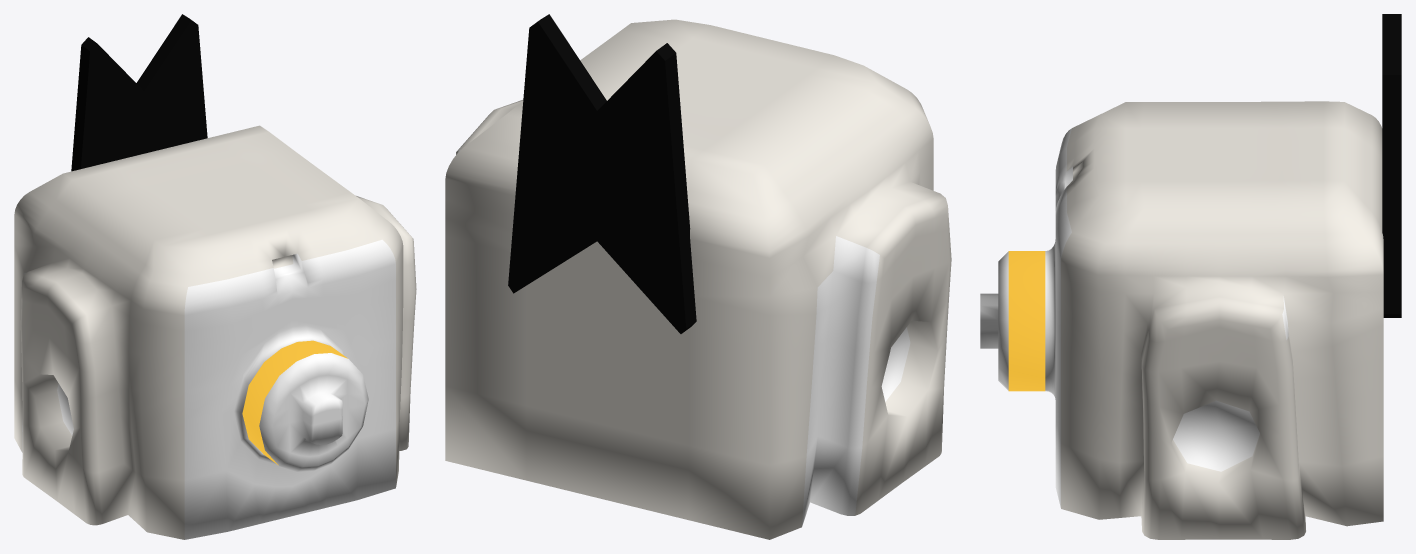
File: dextermecha1.glb
3 views of the same model, side by side, from view 1: azimuth 30°, elevation 25°; view 2: azimuth 150°, elevation 25°; view 3: azimuth 270°, elevation 25° (orthographic). The views are drawn at different scales.
Parts seen in each view (by area): view 1: arribapies.001; view 2: arribapies.001; view 3: arribapies.001.
Part boxes in pixels (x1=…): arribapies.001: x1=14, y1=14, x2=416, y2=539; arribapies.001: x1=445, y1=14, x2=951, y2=539; arribapies.001: x1=980, y1=14, x2=1401, y2=539.
Bounding box in the file's own units: 2.65 × 2.79 × 2.57.
